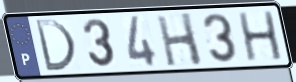3: (201, 11, 238, 65), (81, 17, 116, 70)
4: (126, 14, 159, 69)
D: (32, 18, 78, 73)
H: (154, 11, 206, 68), (236, 9, 286, 63)
